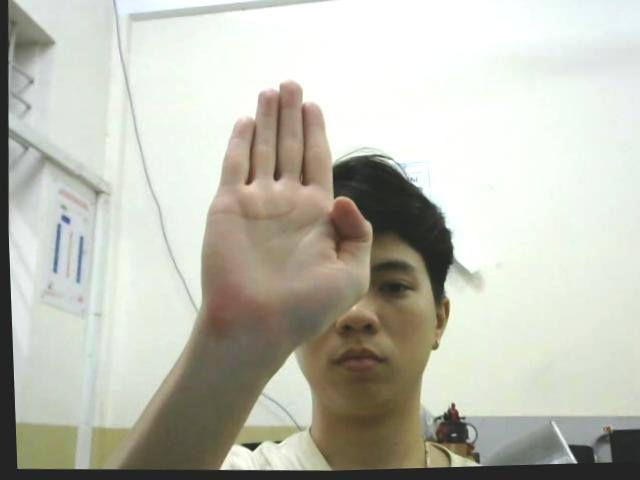B: (189, 76, 379, 346)
